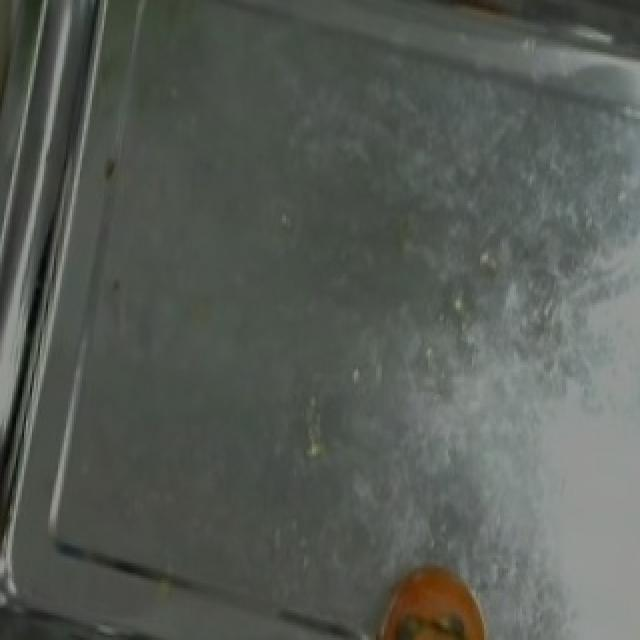Fruit: (356, 548, 506, 640)
